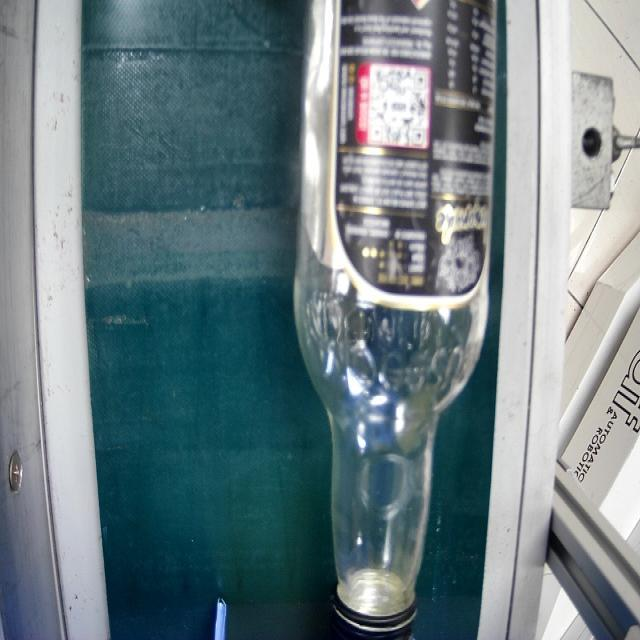Glass: (296, 3, 497, 640)
